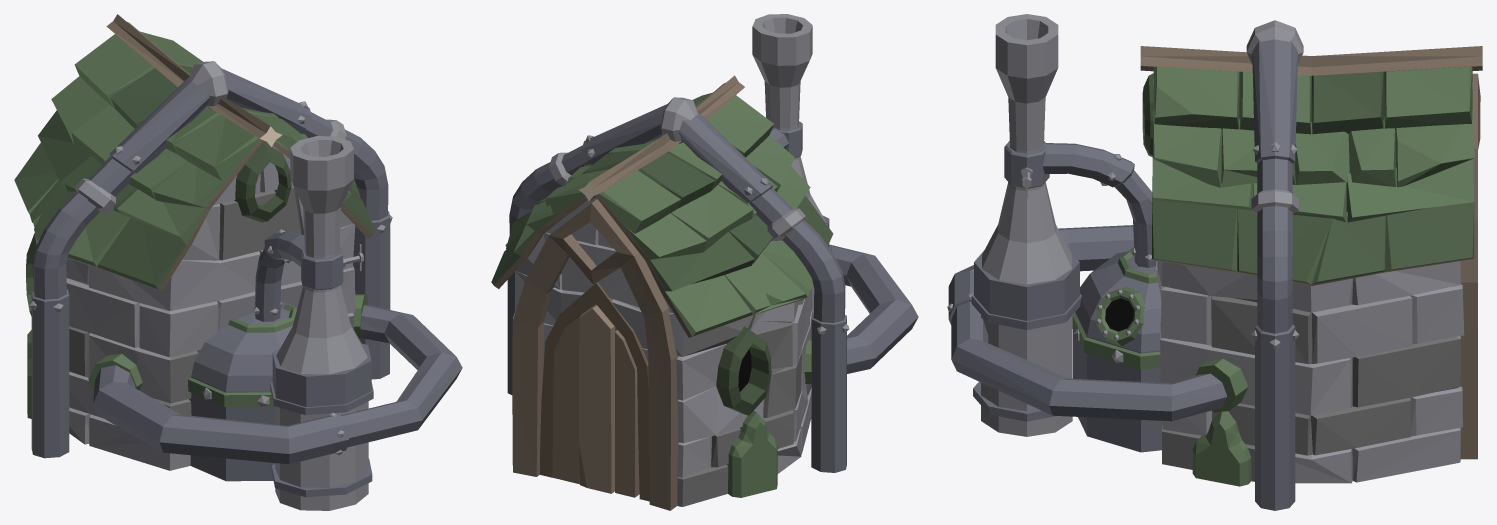
File: alchemist.fbx
3 renders of one model, left to right at view 1: azimuth 30°, elevation 25°; view 2: azimuth 150°, elevation 25°; view 3: azimuth 270°, elevation 25°, orthographic. The views are drawn at different scales.
Visible parts, largest first — view 1: alchemist_house; view 2: alchemist_house; view 3: alchemist_house.
Boxes of the visible parts, x1,y1,x2,y2 form: alchemist_house: (14,14,462,510); alchemist_house: (491,14,918,510); alchemist_house: (947,14,1482,510).
Size of the model in its own units: 239 by 219 by 273.
